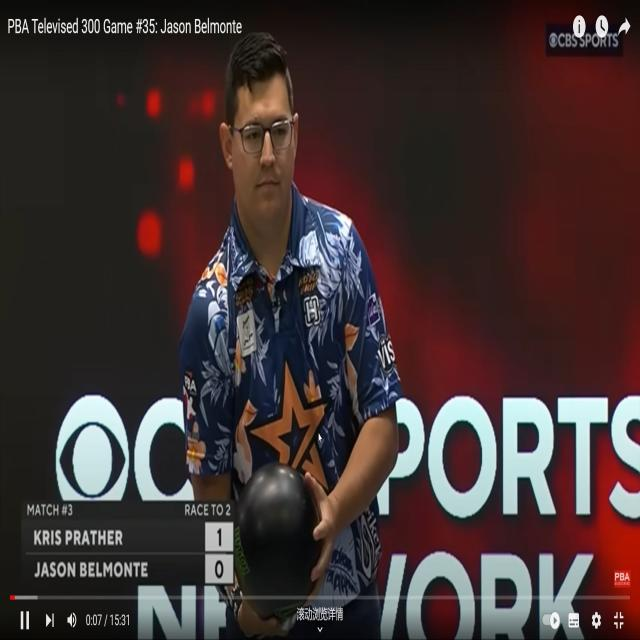balls: (234, 460, 323, 620)
